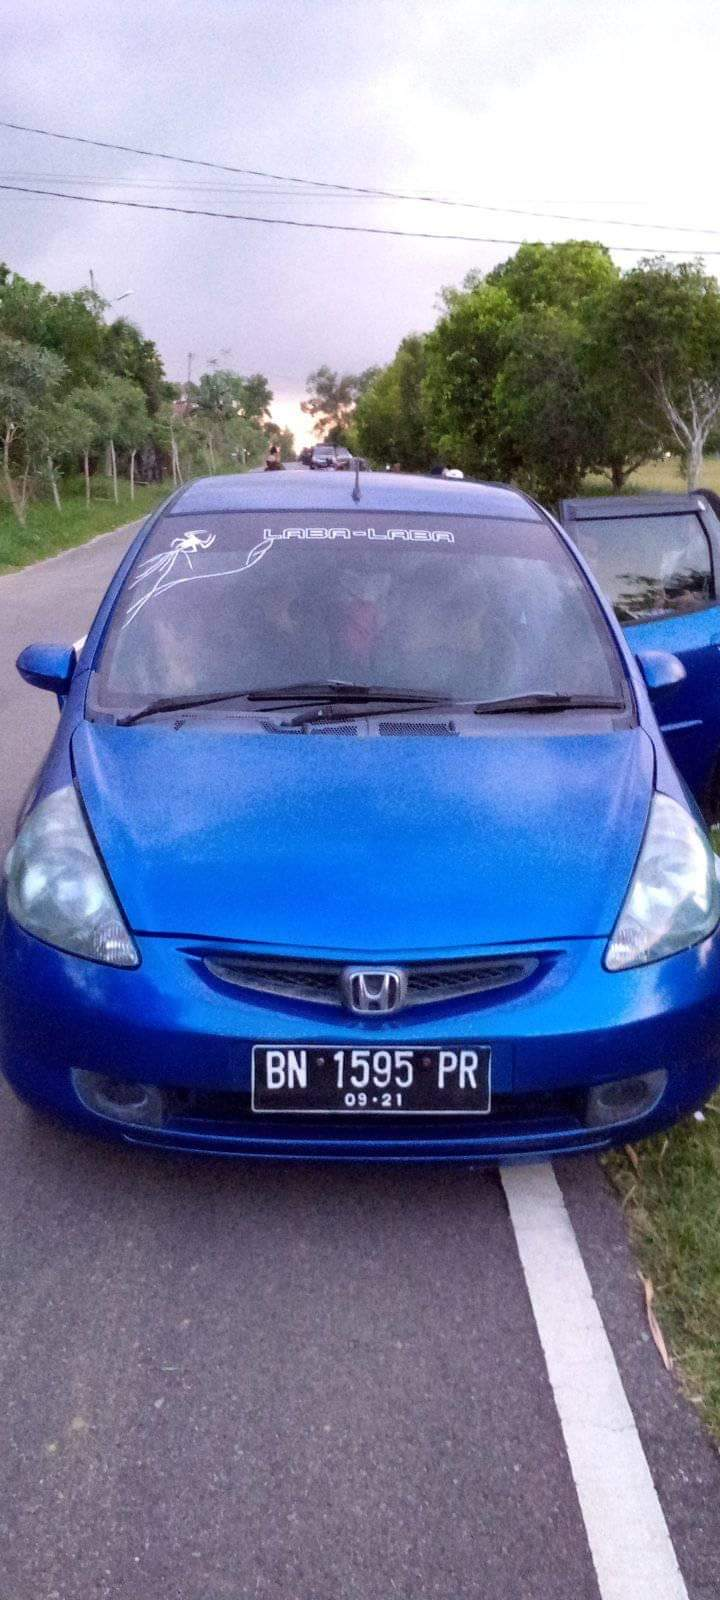plate: (248, 1036, 492, 1119)
